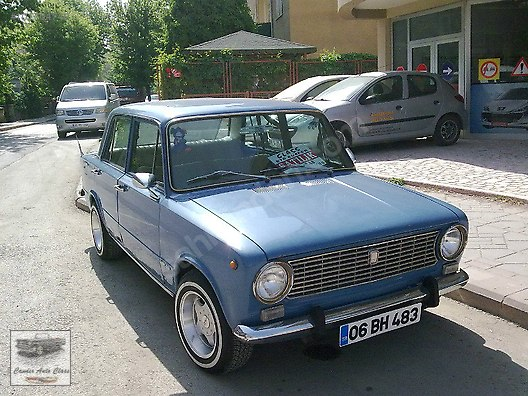murat: (73, 98, 474, 372)
